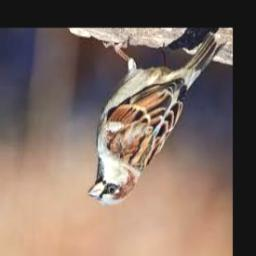Sparrow: (88, 31, 217, 206)
